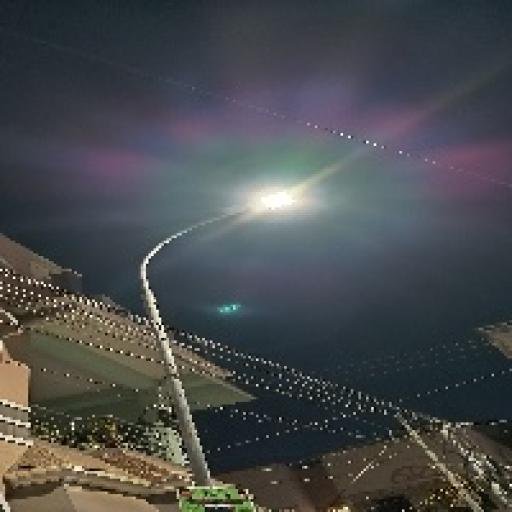Working: (241, 179, 311, 224)
